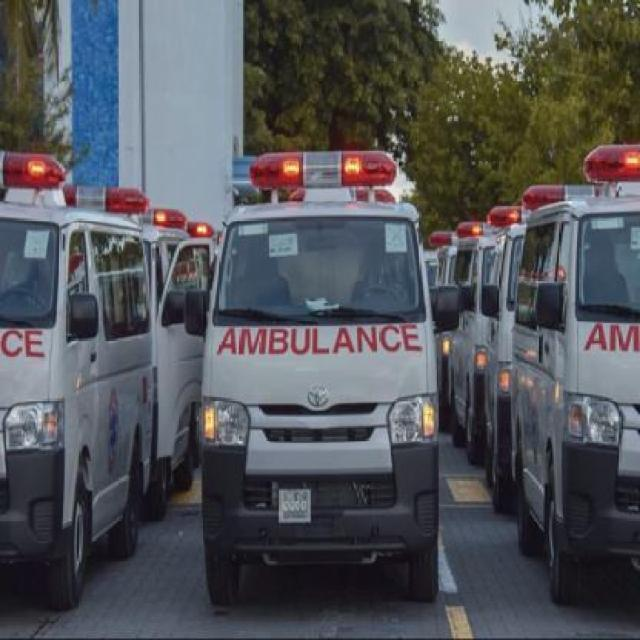emergency: (185, 147, 442, 608), (0, 142, 158, 616), (503, 140, 639, 612)
